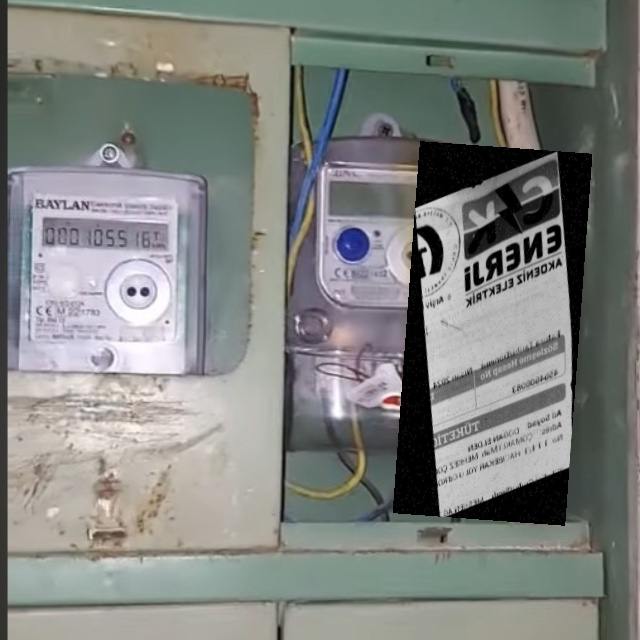electricity-bill: (393, 140, 591, 525)
